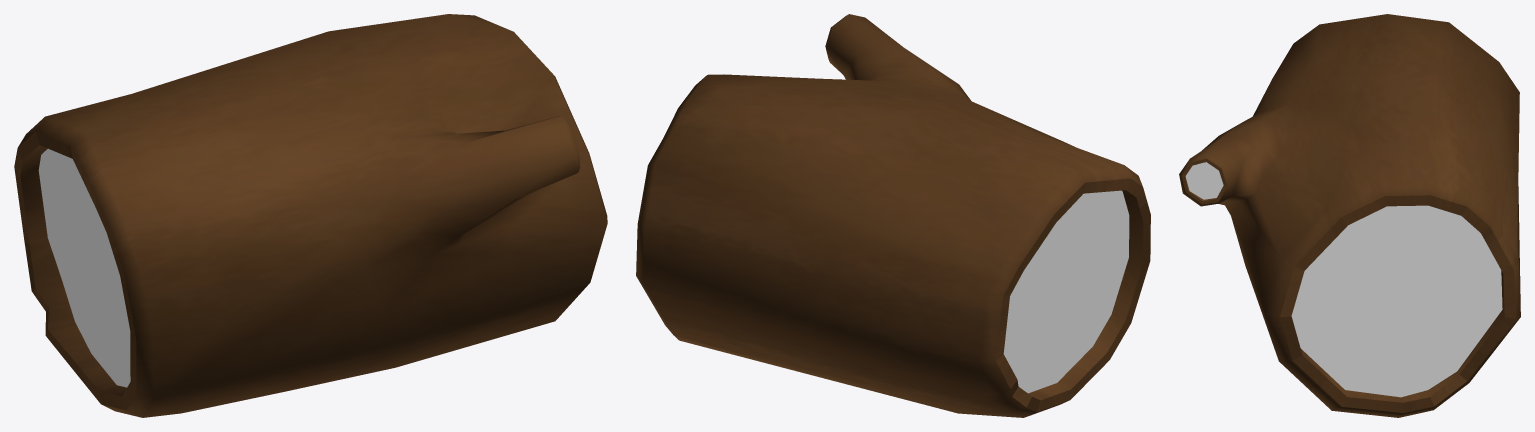
Rendered from Log_2.glb.
3 views of the same model, side by side, from view 1: azimuth 30°, elevation 25°; view 2: azimuth 150°, elevation 25°; view 3: azimuth 270°, elevation 25° (orthographic). The views are drawn at different scales.
Parts seen in each view (by area): view 1: Icosphere.035; view 2: Icosphere.035; view 3: Icosphere.035.
Boxes of the visible parts, x1,y1,x2,y2 form: Icosphere.035: (14, 14, 607, 417); Icosphere.035: (636, 14, 1150, 417); Icosphere.035: (1179, 14, 1520, 417).
Bounding box in the file's own units: 0.9307 × 0.5556 × 0.694.
Materials: 2 (1 with a texture image).
